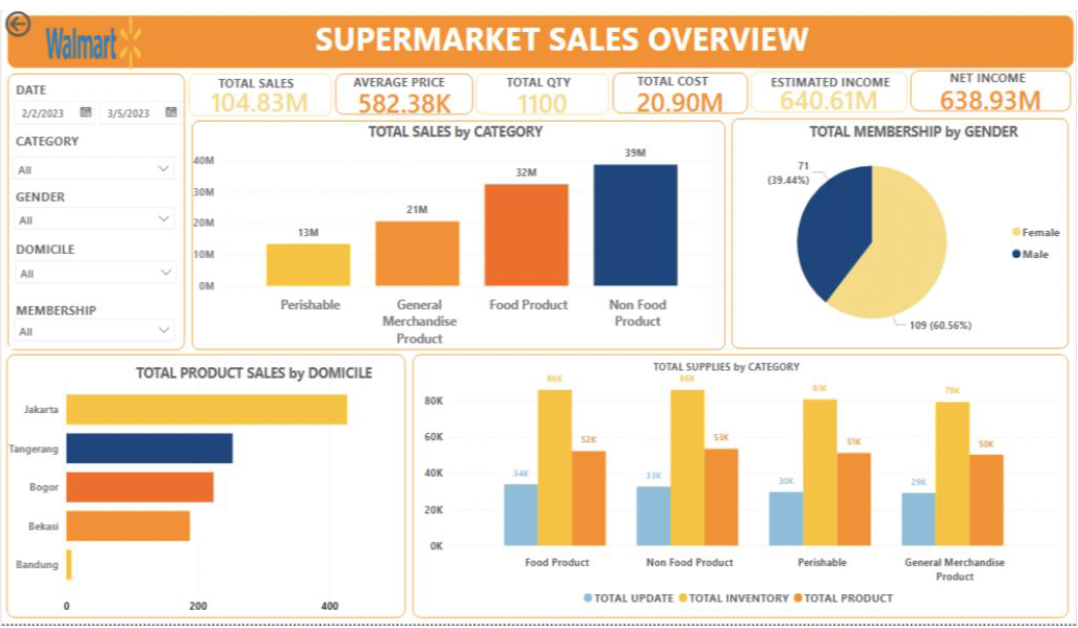

The dashboard page shown, as its layout file describes it:
{"tool":"powerbi","page":{"name":"SALES  OVERVIEW","canvas":[1280,720],"ordinal":0},"visuals":[{"type":"textbox","box":[7.7,78.1,211.3,323.1],"z":0},{"type":"textbox","box":[7.7,10.7,1269.3,61.2],"z":1000},{"type":"image","box":[1.5,6.1,217.4,72],"z":2000},{"type":"slicer","fields":{"Values":["Master (Filled).Input Date"]},"box":[7.7,104.1,211.3,41.3],"z":3000},{"type":"textbox","box":[16.6,85.4,72.7,29.3],"z":4000},{"type":"card","fields":{"Values":["Sum(Master (Filled).Total Payment)"]},"box":[223.1,77.8,169.6,49.7],"z":5000},{"type":"card","fields":{"Values":["Sum(Master (Filled).Quantity )"]},"box":[564.8,77.8,159.4,48.4],"z":6000},{"type":"textbox","box":[600.5,76.5,88,33.1],"z":7000},{"type":"card","fields":{"Values":["Master (Filled).Average of Payment"]},"box":[397.8,77.8,164.5,48.4],"z":8000},{"type":"textbox","box":[257.2,78.1,128.6,27.6],"z":9000},{"type":"textbox","box":[418,76.6,127.1,27.6],"z":10000},{"type":"card","fields":{"Values":["Sum(Income.estimate)"]},"box":[892.4,75.2,186.1,48.4],"z":11000},{"type":"card","fields":{"Values":["Sum(Income.netincome)"]},"box":[1082.4,73.9,191.2,48.4],"z":12000},{"type":"textbox","box":[1128.4,72,127.1,23],"z":13000},{"type":"card","fields":{"Values":["Sum(Income.Totalcost)"]},"box":[728,76.5,160.6,48.4],"z":14000},{"type":"textbox","box":[915.6,76.6,157.7,29.1],"z":15000},{"type":"textbox","box":[763.7,76.5,105.8,26.8],"z":16000},{"type":"clusteredColumnChart","fields":{"Y":["Sum(Master (Filled).Total Payment)"],"Category":["Master (Filled).Category"]},"box":[226.6,133.2,635.4,267.9],"z":17000},{"type":"slicer","fields":{"Values":["Master (Filled).Category"]},"box":[10.7,166.9,202.1,39.8],"z":18000},{"type":"textbox","box":[16.6,145.3,94.3,29.3],"z":19000},{"type":"textbox","box":[436.4,134.7,220.5,32.2],"z":20000},{"type":"pieChart","fields":{"Y":["CountNonNull(Master (Filled).Barcode)"],"Category":["Master (Filled).new gender colomn"]},"box":[869.7,130.1,401.1,269.5],"z":21000},{"type":"textbox","box":[961.5,134.7,266.4,32.2],"z":22000},{"type":"textbox","box":[16.8,209.8,93.4,29.1],"z":23000},{"type":"clusteredBarChart","fields":{"Category":["Master (Filled).Domicile"],"Y":["Sum(Master (Filled).Quantity )"]},"box":[6.1,405.7,474.6,307.8],"z":25000},{"type":"textbox","box":[159.2,416.5,297,30.6],"z":26000},{"type":"clusteredColumnChart","fields":{"Y":["Sum(Persediaan.Update )","Sum(Persediaan.Inventory)","Sum(Persediaan.Total Product)"],"Category":["Master (Filled).Category"]},"box":[490,405.7,780.9,307.8],"z":27000},{"type":"textbox","box":[16.8,271,93.4,29.1],"z":28000},{"type":"slicer","fields":{"Values":["Master (Filled).Domicile"]},"box":[11.5,290.7,202.7,39.5],"z":29000},{"type":"textbox","box":[774.7,410.3,281.7,21.4],"z":30000},{"type":"slicer","fields":{"Values":["Master (Filled).Barcode"]},"box":[10.2,358.2,201.4,40.8],"z":31000},{"type":"actionButton","box":[0,0,100,40],"z":32000},{"type":"slicer","fields":{"Values":["Master (Filled).Category"]},"box":[9.2,170,202.1,39.8],"z":33000},{"type":"slicer","fields":{"Values":["Master (Filled).new gender colomn"]},"box":[9.8,228.6,201.3,39.1],"z":34000},{"type":"textbox","box":[16.6,342.9,131.3,29.3],"z":35000}]}

Visuals, with their boxes on the page's 1280x720 design canvas (x1, y1, x2, y2). These are canvas units, not pixel positions in the 1078x628 screenshot, which may show the page scaled, cropped or inside an application window:
textbox: 8, 78, 219, 401
textbox: 8, 11, 1277, 72
image: 2, 6, 219, 78
slicer - Master (Filled).Input Date: 8, 104, 219, 145
textbox: 17, 85, 89, 115
card - Sum(Master (Filled).Total Payment): 223, 78, 393, 128
card - Sum(Master (Filled).Quantity ): 565, 78, 724, 126
textbox: 600, 76, 688, 110
card - Master (Filled).Average of Payment: 398, 78, 562, 126
textbox: 257, 78, 386, 106
textbox: 418, 77, 545, 104
card - Sum(Income.estimate): 892, 75, 1078, 124
card - Sum(Income.netincome): 1082, 74, 1274, 122
textbox: 1128, 72, 1256, 95
card - Sum(Income.Totalcost): 728, 76, 889, 125
textbox: 916, 77, 1073, 106
textbox: 764, 76, 870, 103
clusteredColumnChart - Sum(Master (Filled).Total Payment) x Master (Filled).Category: 227, 133, 862, 401
slicer - Master (Filled).Category: 11, 167, 213, 207
textbox: 17, 145, 111, 175
textbox: 436, 135, 657, 167
pieChart - CountNonNull(Master (Filled).Barcode) x Master (Filled).new gender colomn: 870, 130, 1271, 400
textbox: 962, 135, 1228, 167
textbox: 17, 210, 110, 239
clusteredBarChart - Master (Filled).Domicile x Sum(Master (Filled).Quantity ): 6, 406, 481, 714
textbox: 159, 416, 456, 447
clusteredColumnChart - Sum(Persediaan.Update ) x Sum(Persediaan.Inventory): 490, 406, 1271, 714
textbox: 17, 271, 110, 300
slicer - Master (Filled).Domicile: 12, 291, 214, 330
textbox: 775, 410, 1056, 432
slicer - Master (Filled).Barcode: 10, 358, 212, 399
actionButton: 0, 0, 100, 40
slicer - Master (Filled).Category: 9, 170, 211, 210
slicer - Master (Filled).new gender colomn: 10, 229, 211, 268
textbox: 17, 343, 148, 372
